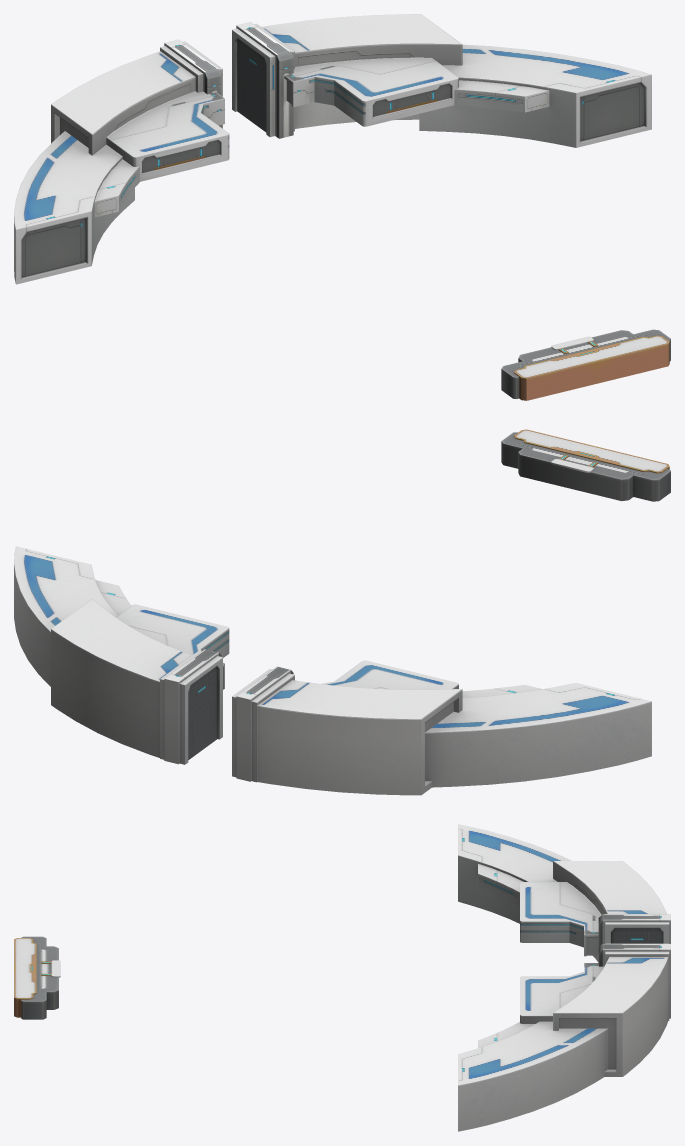
The model's file is mesh_1002_sjzm_dibioa004.FBX.
3 views of the same model, one above another, from view 1: azimuth 30°, elevation 25°; view 2: azimuth 150°, elevation 25°; view 3: azimuth 270°, elevation 25° (orthographic). The views are drawn at different scales.
Visible parts, largest first — view 1: mesh_1002_sjzm_dibioa004; view 2: mesh_1002_sjzm_dibioa004; view 3: mesh_1002_sjzm_dibioa004.
Part boxes in pixels (x1,y1,x2,y2): mesh_1002_sjzm_dibioa004: [14, 14, 670, 400]; mesh_1002_sjzm_dibioa004: [14, 429, 670, 795]; mesh_1002_sjzm_dibioa004: [14, 824, 670, 1131].
Bounding box in the file's own units: 3038 × 375 × 3229.
1 material, 1 textured.
